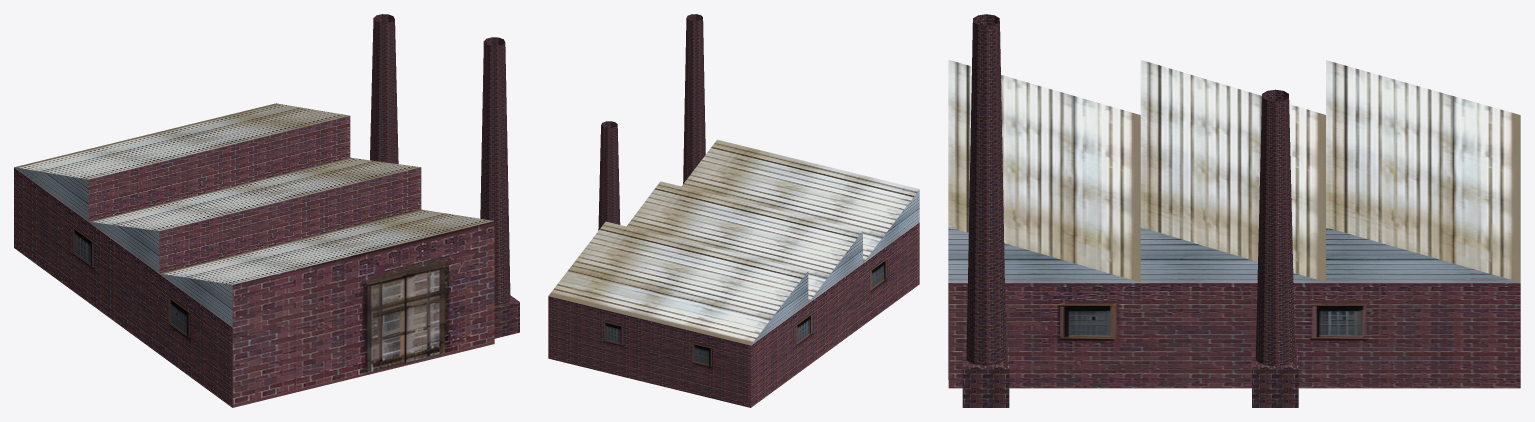
File: factory.gltf
3 views of the same model, side by side, from view 1: azimuth 30°, elevation 25°; view 2: azimuth 150°, elevation 25°; view 3: azimuth 270°, elevation 25° (orthographic). The views are drawn at different scales.
Parts seen in each view (by area): view 1: factory_atomic0; view 2: factory_atomic0; view 3: factory_atomic0.
Part boxes in pixels (box(x1,y1,x2,y2)): factory_atomic0: box(14, 14, 519, 407); factory_atomic0: box(548, 14, 919, 407); factory_atomic0: box(948, 14, 1520, 407).
Bounding box in the file's own units: 96.76 × 91.14 × 125.
3 materials, 3 textured.
